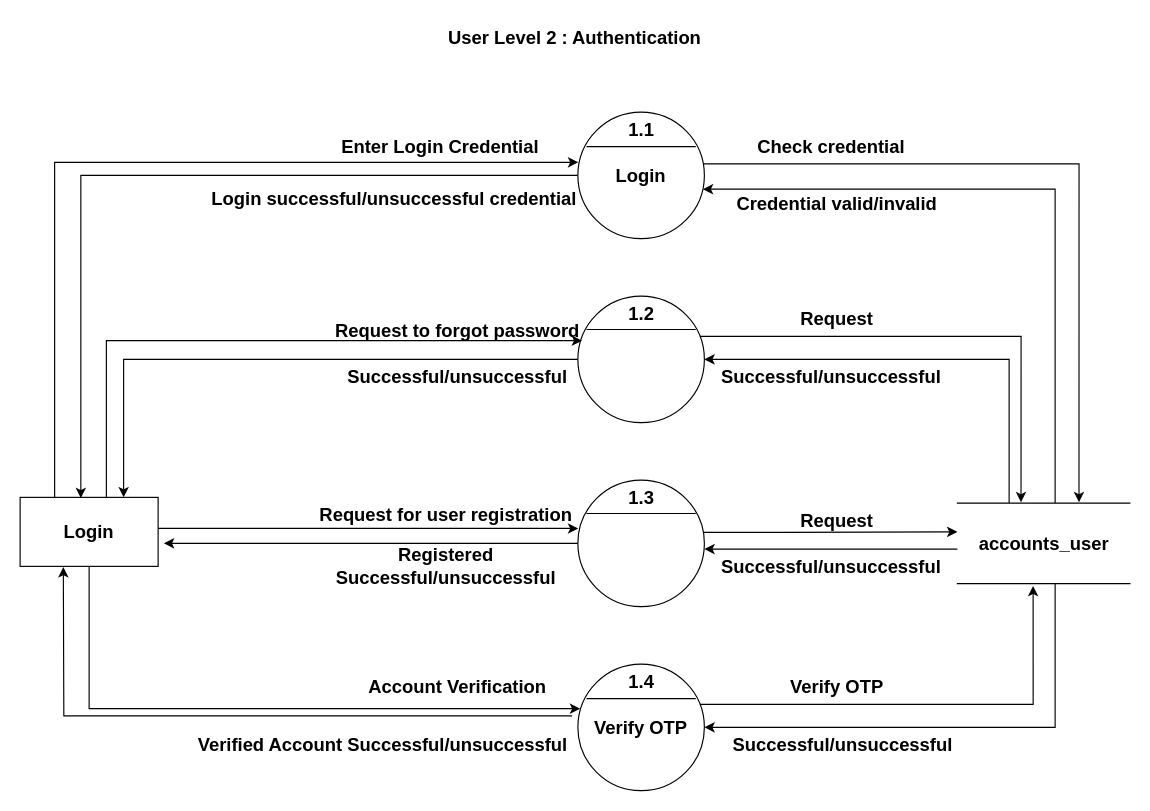
This 1150x811 diagram has some shape labels left out. The box of each missing label's shape, as (x1, y1, x2, y2) in pixels:
Forgot Password: (577, 295, 704, 423)
Register: (577, 479, 704, 607)
